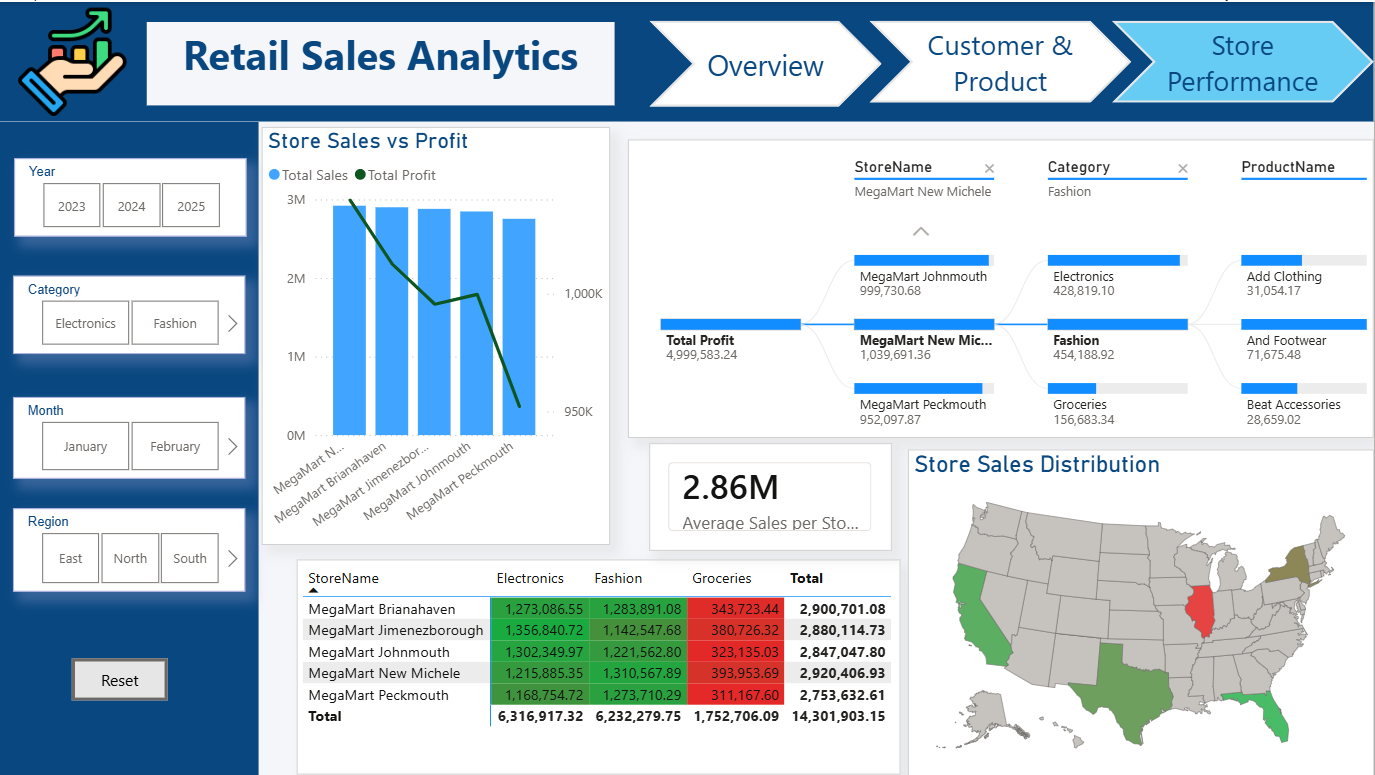

Layout of this report page (visuals, bound fields, positions):
{"tool":"powerbi","page":{"name":"Store Performance","canvas":[1280,720],"ordinal":2},"visuals":[{"type":"shape","box":[0,111.2,242.5,608.8],"z":0,"group":"g1"},{"type":"group","id":"g1","title":"all","box":[0,0,1280,720],"z":1000},{"type":"shape","box":[1.2,0,1278.8,111.2],"z":2000,"group":"g1"},{"type":"group","id":"g2","title":"Store Performance","box":[245,116.8,593.8,602.7],"z":2000},{"type":"lineClusteredColumnComboChart","title":"Store Sales vs Profit","fields":{"Category":["retail_sales_clean.StoreName"],"Y":["retail_sales_clean.Total Sales"],"Y2":["retail_sales_clean.Total Profit"]},"box":[245,116.8,323.8,388.8],"z":2000,"group":"g2"},{"type":"decompositionTreeVisual","fields":{"Analyze":["retail_sales_clean.Total Profit"],"ExplainBy":["retail_sales_clean.StoreName","retail_sales_clean.Category","retail_sales_clean.ProductName","retail_sales_clean.SubCategory"]},"box":[586.2,127.5,693.8,277.5],"z":3000},{"type":"slicer","fields":{"Values":["retail_sales_clean.Year"]},"box":[15.3,145.8,216.2,72.5],"z":3000,"group":"g1"},{"type":"pivotTable","fields":{"Rows":["retail_sales_clean.StoreName"],"Columns":["retail_sales_clean.Category"],"Values":["retail_sales_clean.Total Sales"]},"box":[277.5,519.5,561.2,200],"z":3000,"group":"g2"},{"type":"slicer","fields":{"Values":["retail_sales_clean.Date.Variation.Date Hierarchy.Month"]},"box":[14,367,216.2,76.2],"z":4000,"group":"g1"},{"type":"shapeMap","title":"Store Sales Distribution","fields":{"Value":["retail_sales_clean.Total Sales"],"Category":["retail_sales_clean.State"]},"box":[846.2,416.2,433.8,303.8],"z":4000},{"type":"slicer","fields":{"Values":["retail_sales_clean.Category"]},"box":[14,254.5,216.2,72.5],"z":5000,"group":"g1"},{"type":"cardVisual","fields":{"Data":["retail_sales_clean.Average Sales per Store"]},"box":[605.7,410,225.7,100],"z":5000},{"type":"slicer","fields":{"Values":["retail_sales_clean.Region"]},"box":[14,470.8,216.2,77.5],"z":6000,"group":"g1"},{"type":"actionButton","box":[69,610.6,89.3,39.6],"z":6000},{"type":"textbox","box":[138.8,18.8,435,77.5],"z":7000,"group":"g1"},{"type":"image","box":[0,0,138.8,111.2],"z":8000,"group":"g1"},{"type":"actionButton","title":"Customer & Product","box":[810,17.5,243.8,76.2],"z":10000,"group":"g1"},{"type":"actionButton","title":"Store Performance","box":[1036.2,17.5,243.8,76.2],"z":10750,"group":"g1"},{"type":"actionButton","title":"Overview","box":[606.2,17.5,216.2,80],"z":11000,"group":"g1"}]}

Visuals, with their boxes in screenshot pixels (x1, y1, x2, y2), scaled from the page's 1280x720 canvas onto the 1375x775 screenshot:
shape: pyautogui.locateOnScreen(0, 120, 260, 774)
"all" group: pyautogui.locateOnScreen(0, 0, 1374, 774)
shape: pyautogui.locateOnScreen(1, 0, 1374, 120)
"Store Performance" group: pyautogui.locateOnScreen(263, 126, 901, 774)
"Store Sales vs Profit" lineClusteredColumnComboChart: pyautogui.locateOnScreen(263, 126, 611, 544)
decompositionTreeVisual - retail_sales_clean.Total Profit x retail_sales_clean.StoreName: pyautogui.locateOnScreen(630, 137, 1374, 436)
slicer - retail_sales_clean.Year: pyautogui.locateOnScreen(16, 157, 249, 235)
pivotTable - retail_sales_clean.StoreName x retail_sales_clean.Category: pyautogui.locateOnScreen(298, 559, 901, 774)
slicer - retail_sales_clean.Date.Variation.Date Hierarchy.Month: pyautogui.locateOnScreen(15, 395, 247, 477)
"Store Sales Distribution" shapeMap: pyautogui.locateOnScreen(909, 448, 1374, 774)
slicer - retail_sales_clean.Category: pyautogui.locateOnScreen(15, 274, 247, 352)
cardVisual - retail_sales_clean.Average Sales per Store: pyautogui.locateOnScreen(651, 441, 893, 549)
slicer - retail_sales_clean.Region: pyautogui.locateOnScreen(15, 507, 247, 590)
actionButton: pyautogui.locateOnScreen(74, 657, 170, 700)
textbox: pyautogui.locateOnScreen(149, 20, 616, 104)
image: pyautogui.locateOnScreen(0, 0, 149, 120)
"Customer & Product" actionButton: pyautogui.locateOnScreen(870, 19, 1132, 101)
"Store Performance" actionButton: pyautogui.locateOnScreen(1113, 19, 1374, 101)
"Overview" actionButton: pyautogui.locateOnScreen(651, 19, 883, 105)
